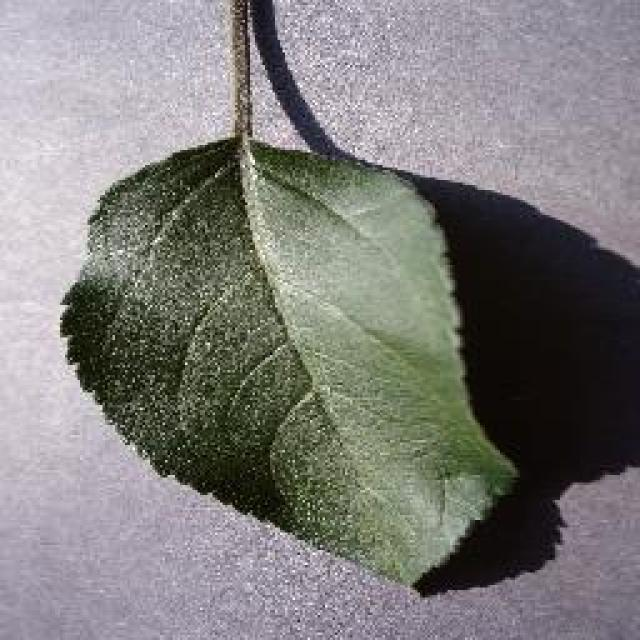apple healthy: (58, 130, 520, 590)
